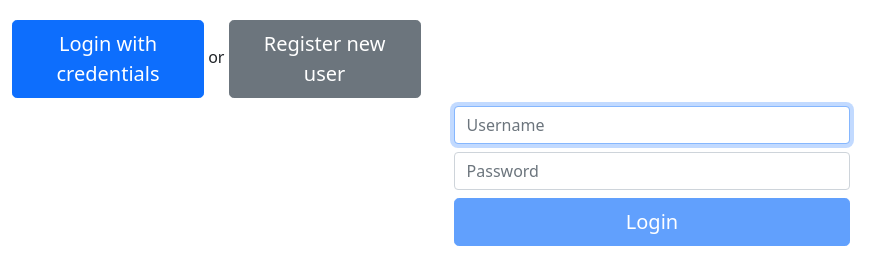
Test: State after typing username and password of "sign up" button should be enabled
The image size is (871, 263).
Click the button "Register new user" at [325, 59], box [229,20,421,98]
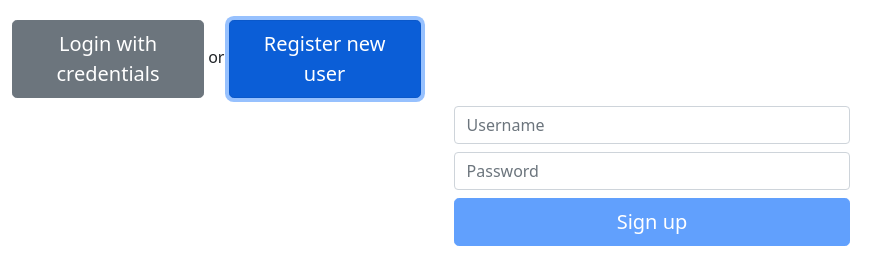
Type "layla" into the field with placeholder "Username" at [652, 125], box [454,106,850,144]
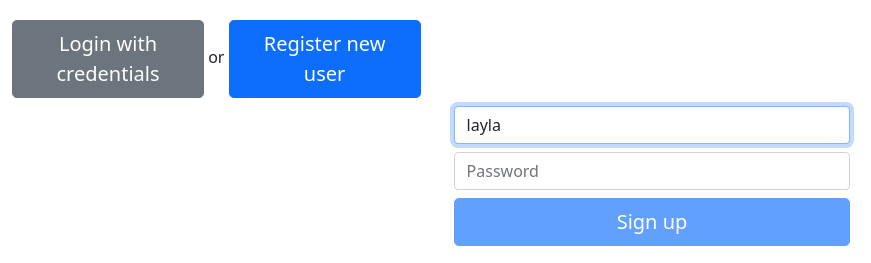
Type "password1" into the password field with placeholder "Password" at [652, 171], box [454,152,850,190]
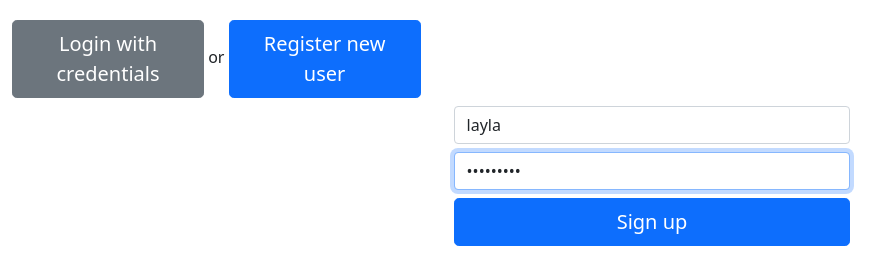
Expected: the button "Sign up" is enabled, [454,198,850,246]
